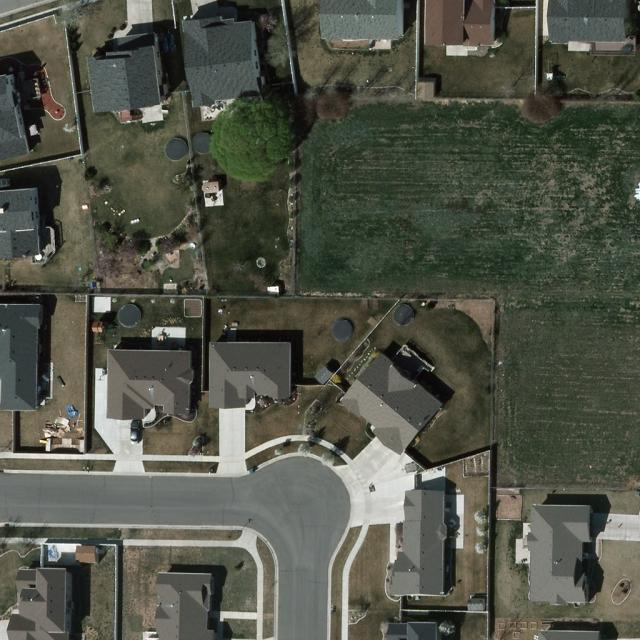vehicle: (130, 420, 142, 446)
